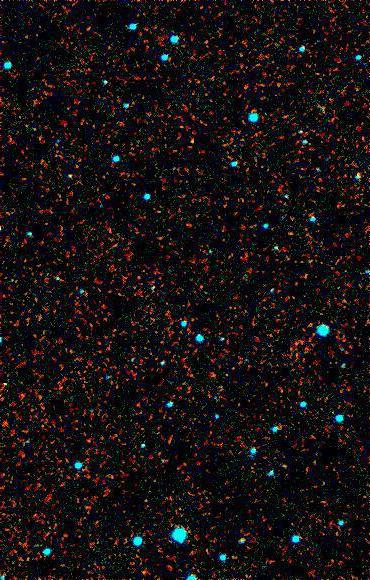star: (178, 127, 208, 157)
